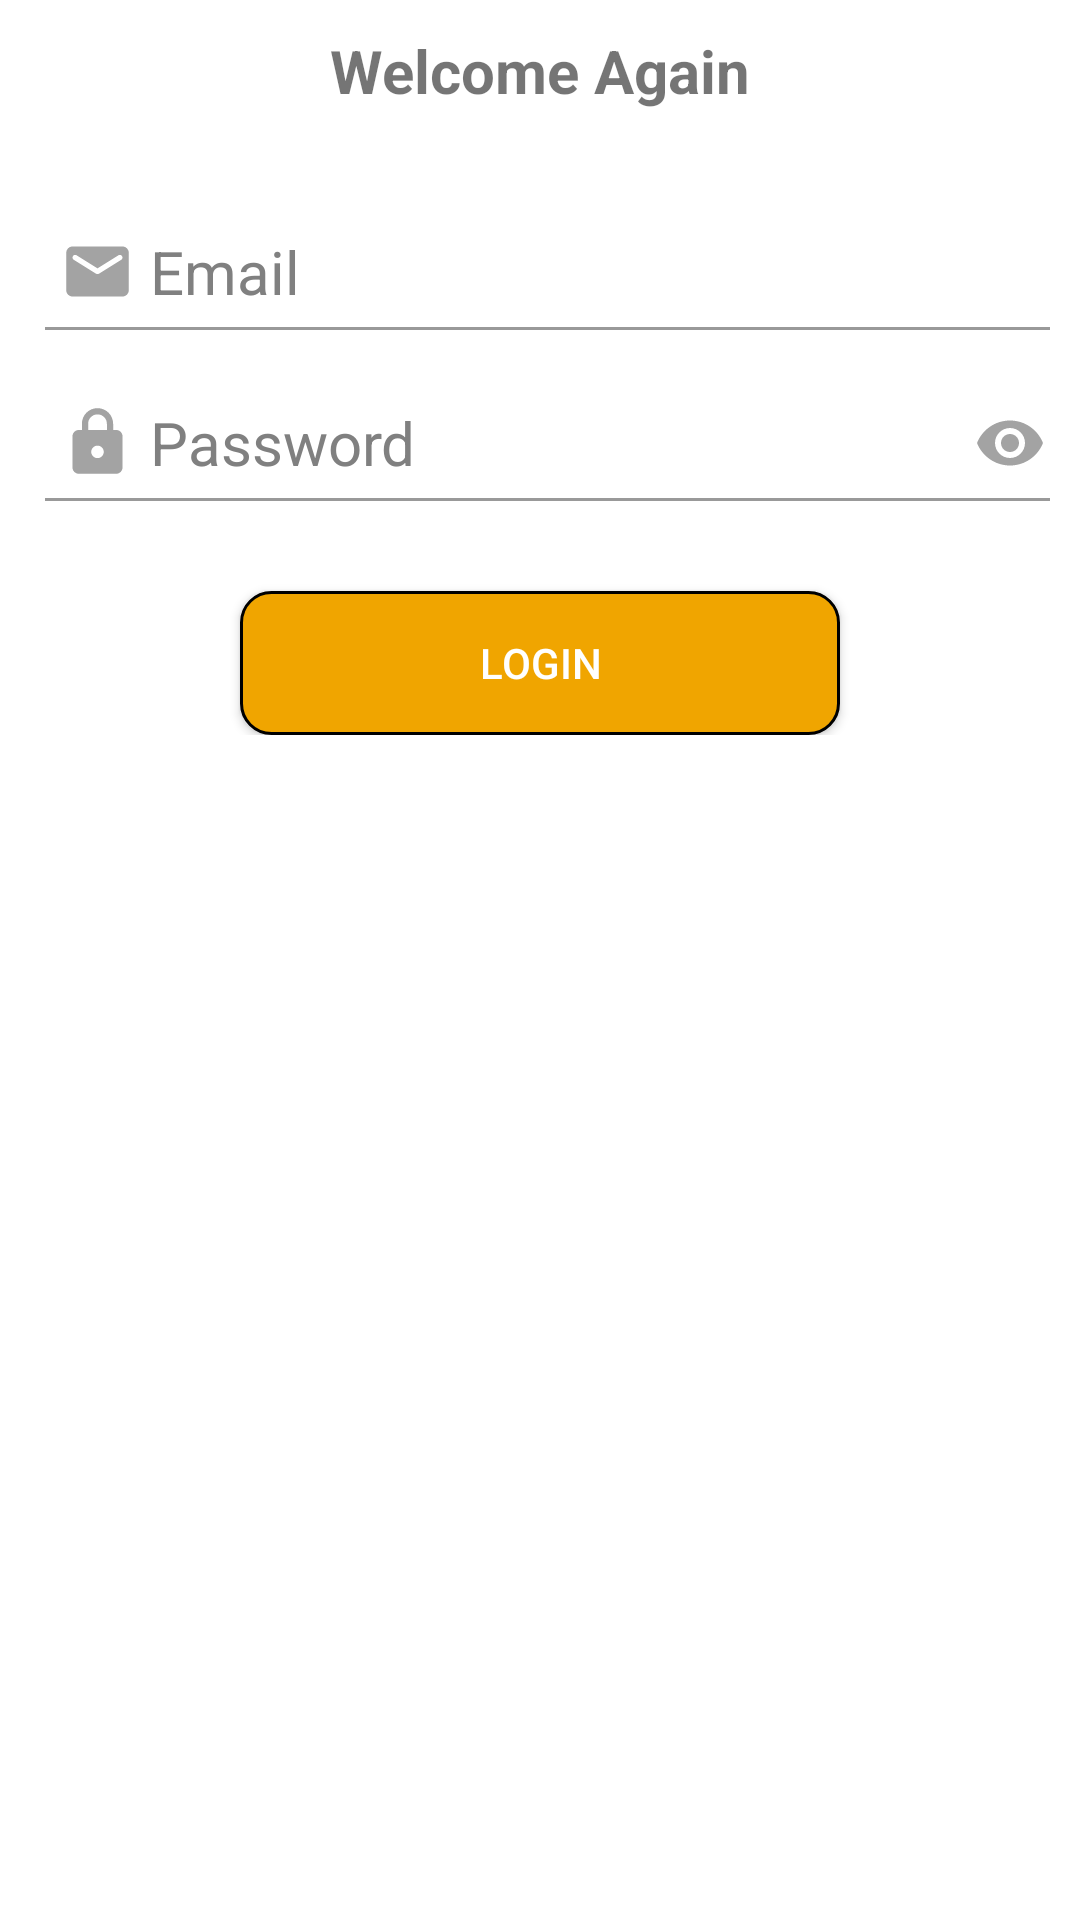

Icons on this 1080w x 1920h Android screen, each with the point to tap as point (x, y):
lock: point (97, 441)
visibility: point (1010, 443)
